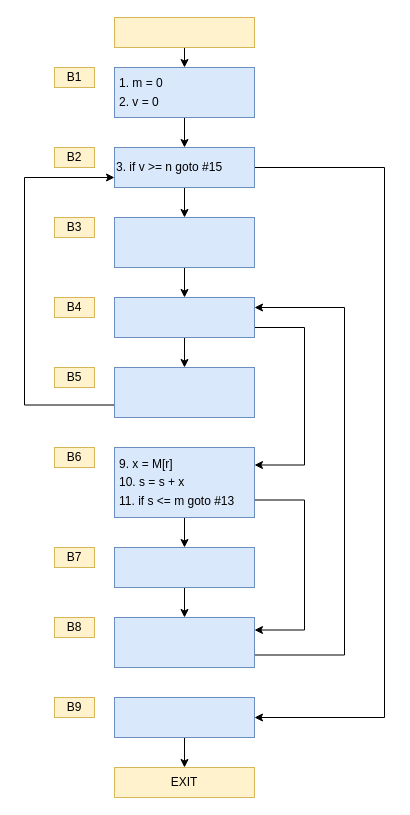
Some shapes in this 410 by 815 pixel diagram are drawn without their labels. Each missing label, with the centre of its shape:
"12. m = s" goes at point (184, 567).
"13. r = r + 1 14. goto #6" goes at point (184, 642).
"15. return m" goes at point (184, 717).
"4. r = v 5. s = 0" goes at point (184, 242).
"6. if r < n goto #9" goes at point (184, 317).
"7. v = v + 1 8. goto #3" goes at point (184, 392).
"ENTRY" goes at point (184, 32).
